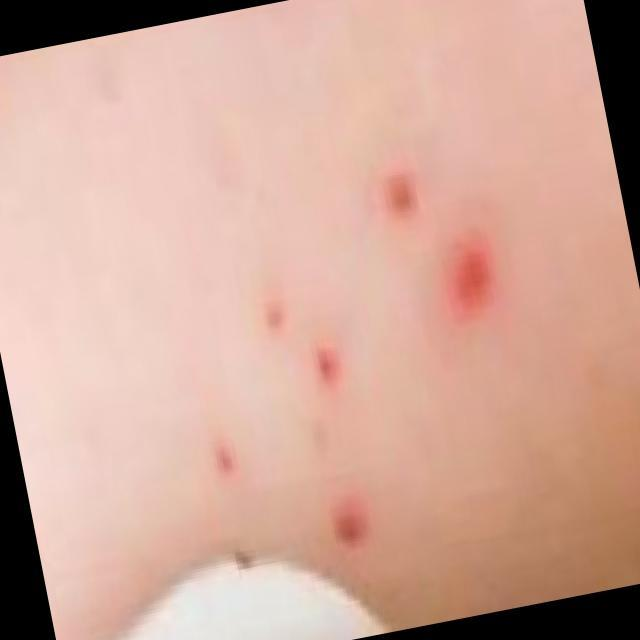Eczema: (196, 302, 367, 554), (376, 179, 503, 312)
